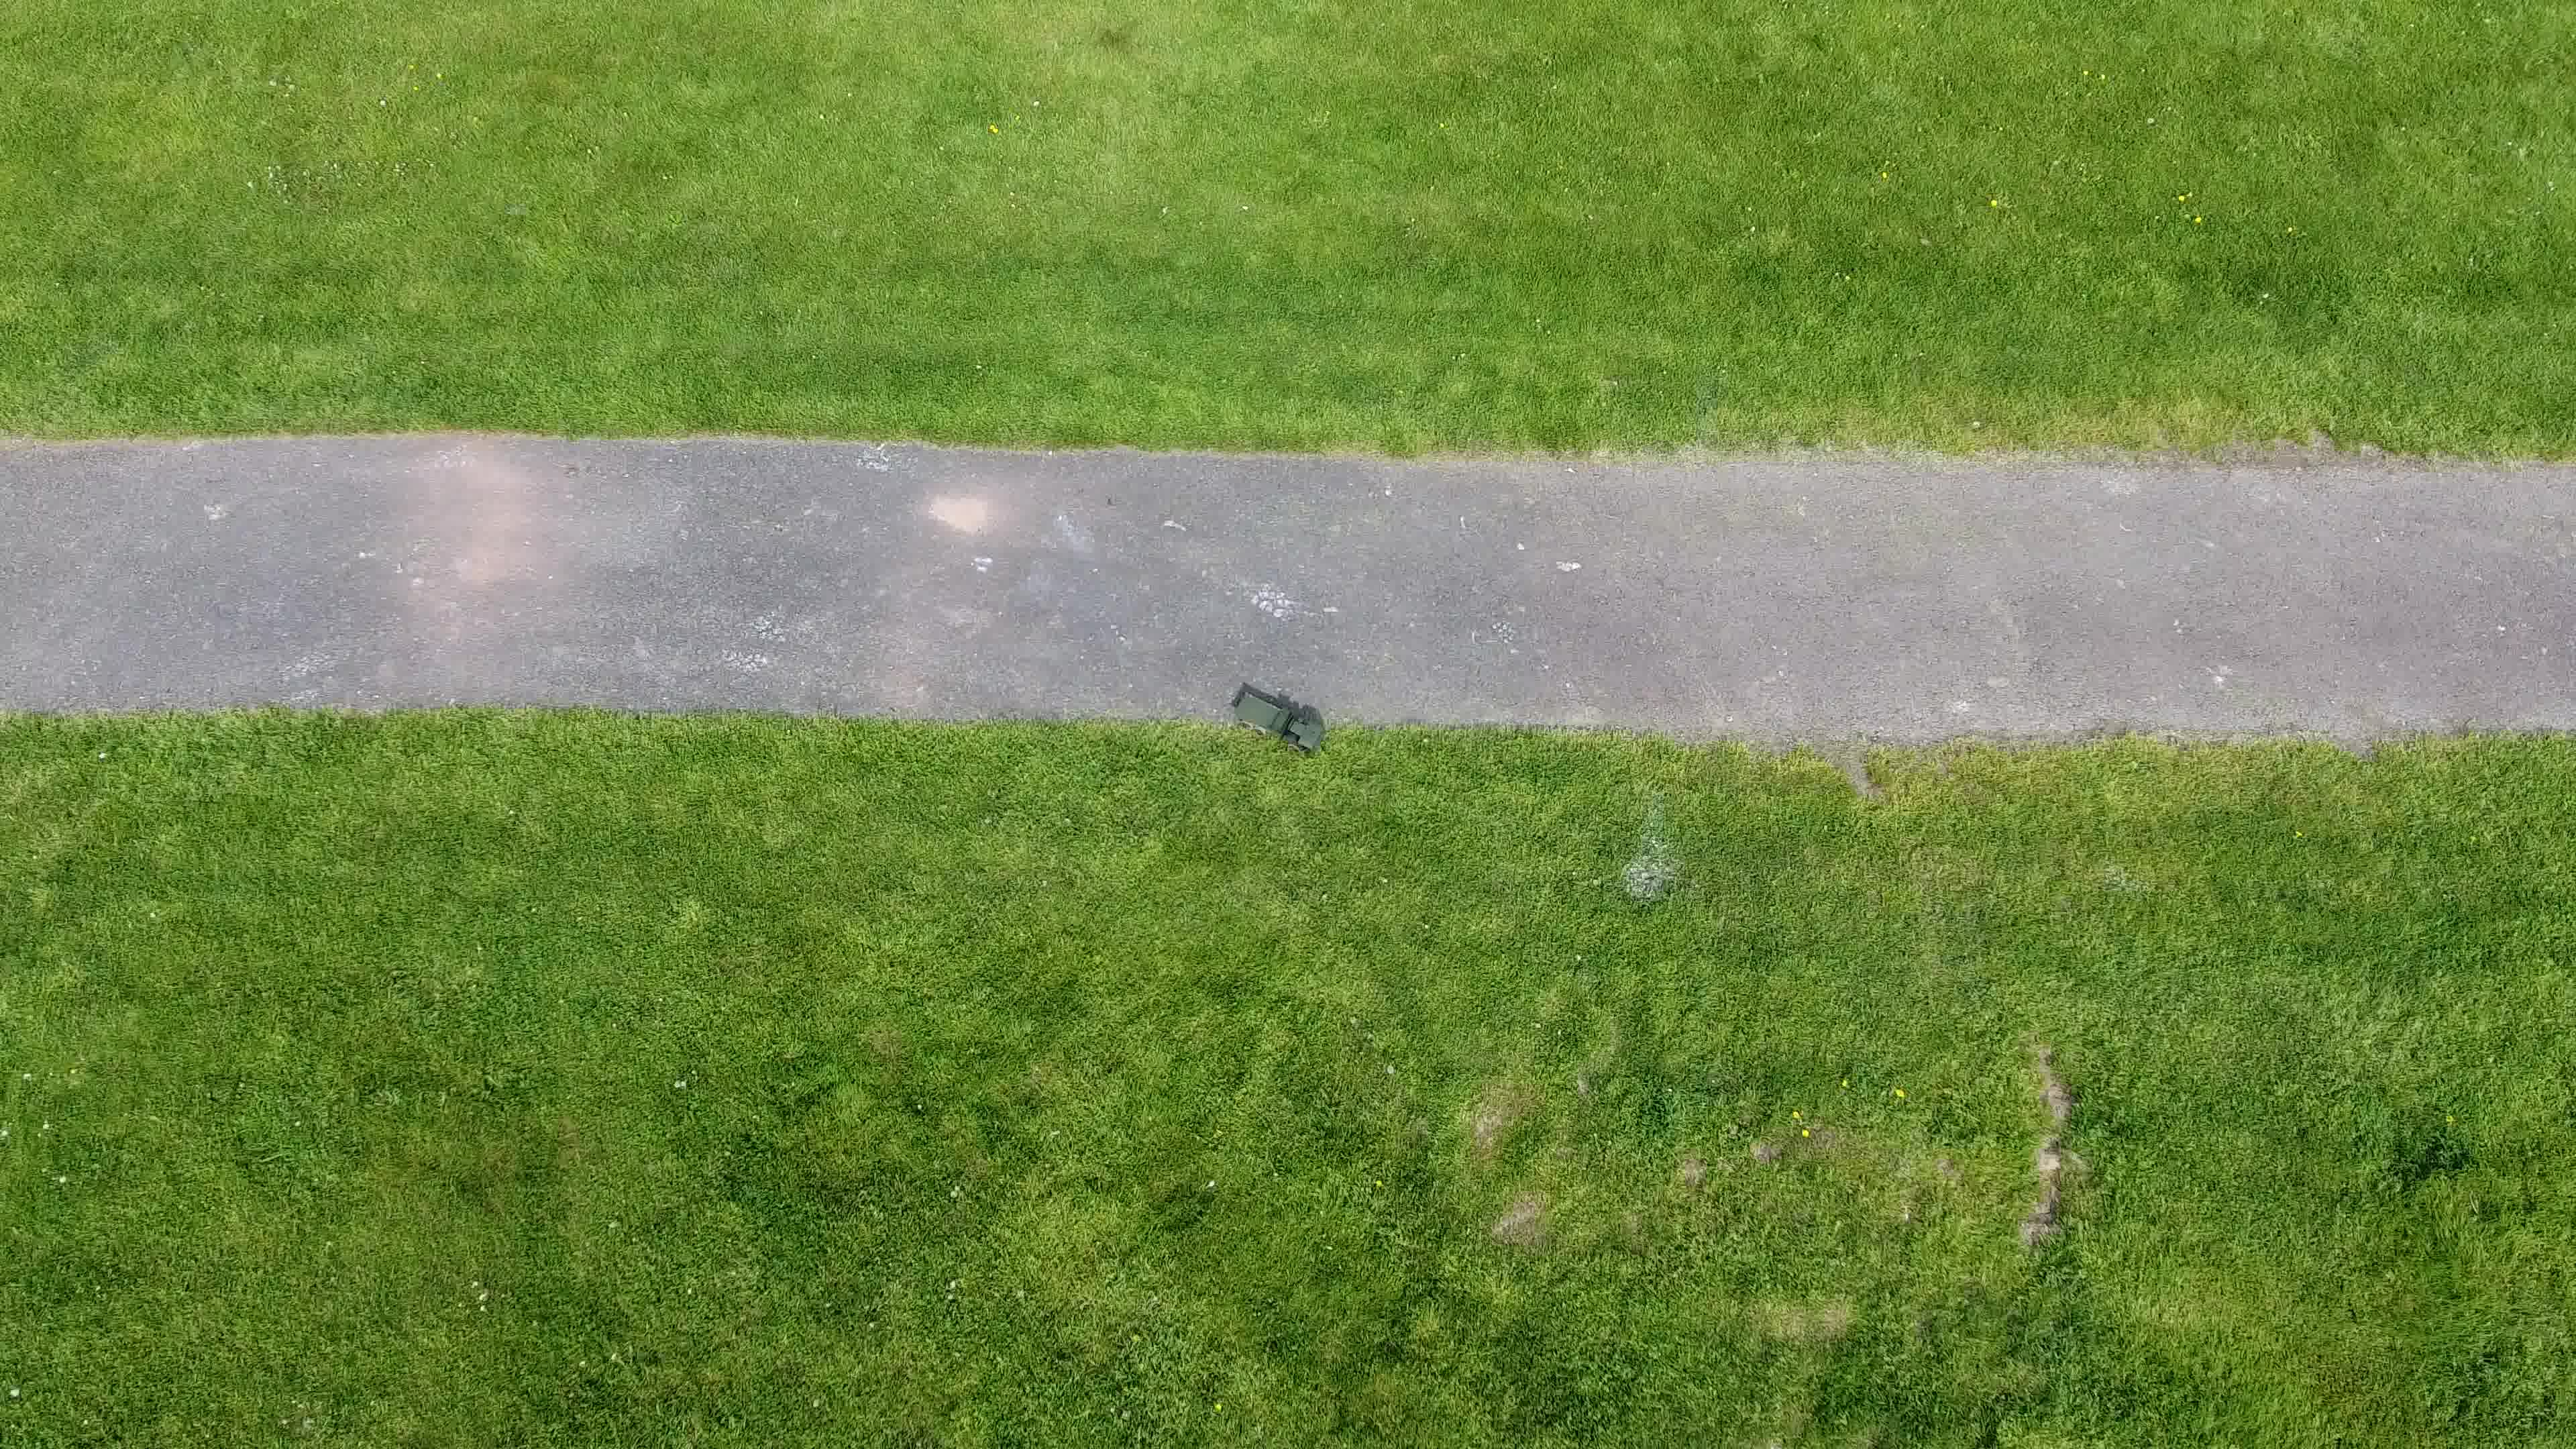transporter9: (1224, 685, 1329, 754)
